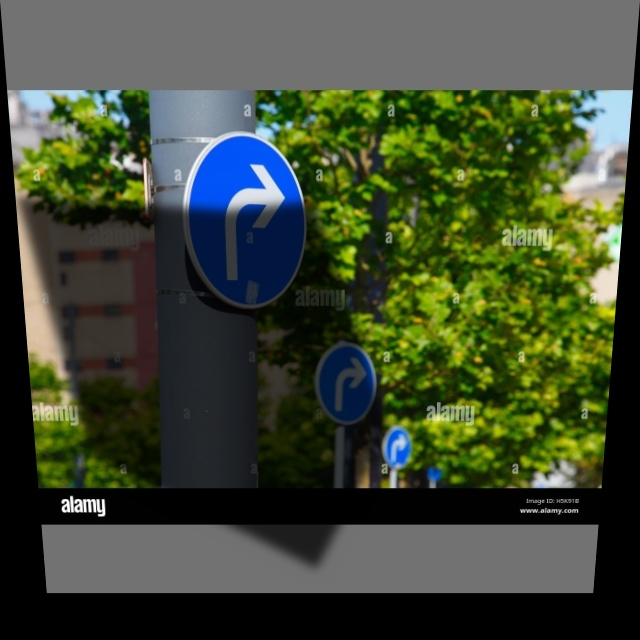Compulsory_Turn_Right_Ahead: (183, 134, 302, 307)
